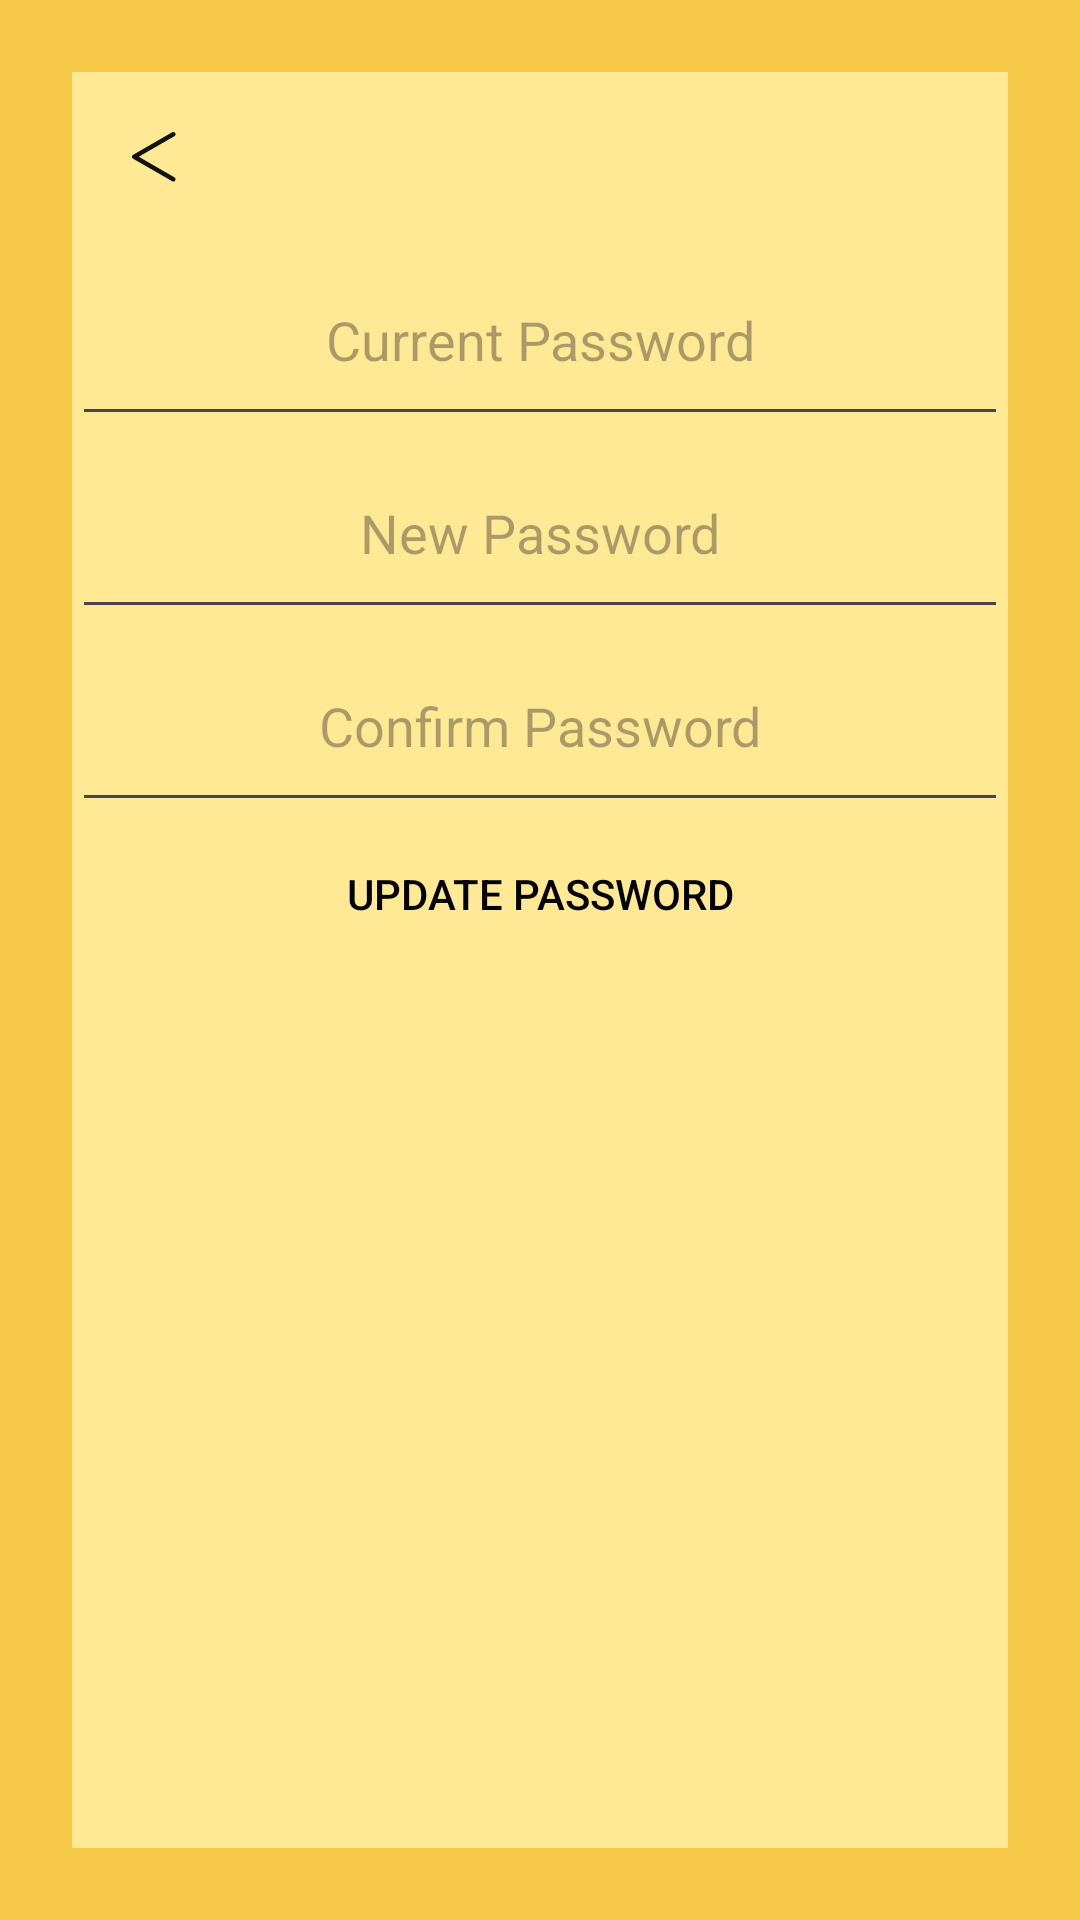

Icon click points for this 1080 × 1920 phone screenshot, format point (x, y):
Back: point (154, 157)
